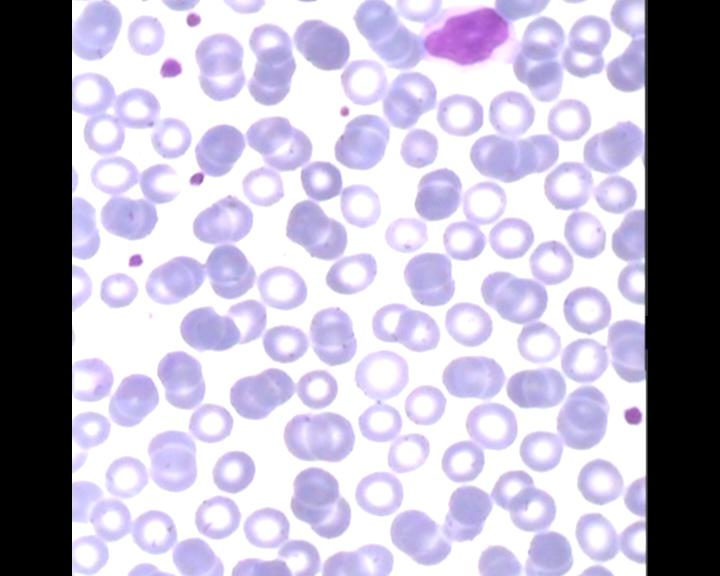mono: (415, 4, 523, 72)
